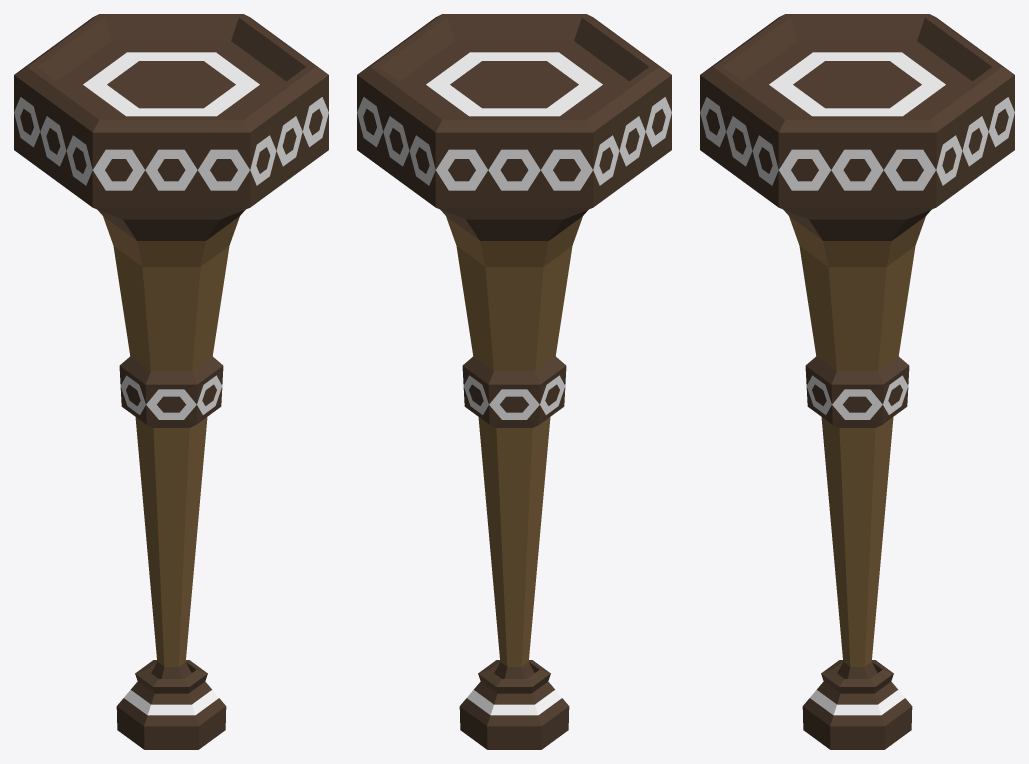
The model's file is Pins1_Forager_Runes.fbx.
The picture shows the model from 3 angles, left to right: view 1: azimuth 30°, elevation 25°; view 2: azimuth 150°, elevation 25°; view 3: azimuth 270°, elevation 25°; orthographic projection.
Visible parts, largest first — view 1: Pin1_Forager_Runes; view 2: Pin1_Forager_Runes; view 3: Pin1_Forager_Runes.
Boxes of the visible parts, x1,y1,x2,y2 form: Pin1_Forager_Runes: (14, 14, 328, 749); Pin1_Forager_Runes: (357, 14, 671, 749); Pin1_Forager_Runes: (700, 14, 1014, 749).
Bounding box in the file's own units: 183 × 492 × 212.
